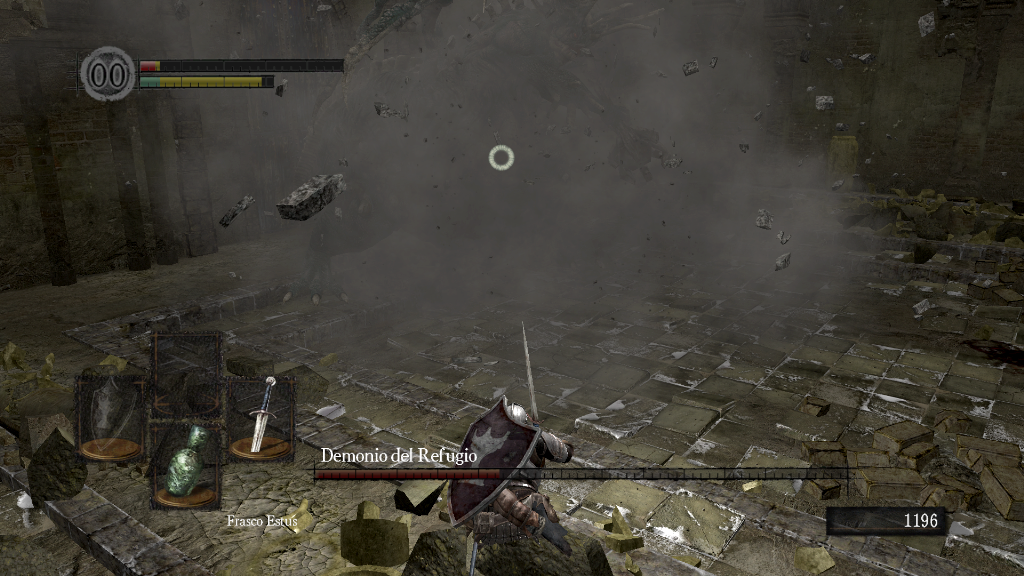bossHP: (314, 469, 847, 479)
health: (138, 58, 343, 71)
humanity: (80, 45, 136, 102)
player: (448, 319, 572, 567)
souls: (825, 506, 945, 536)
stamina: (138, 74, 274, 88)
